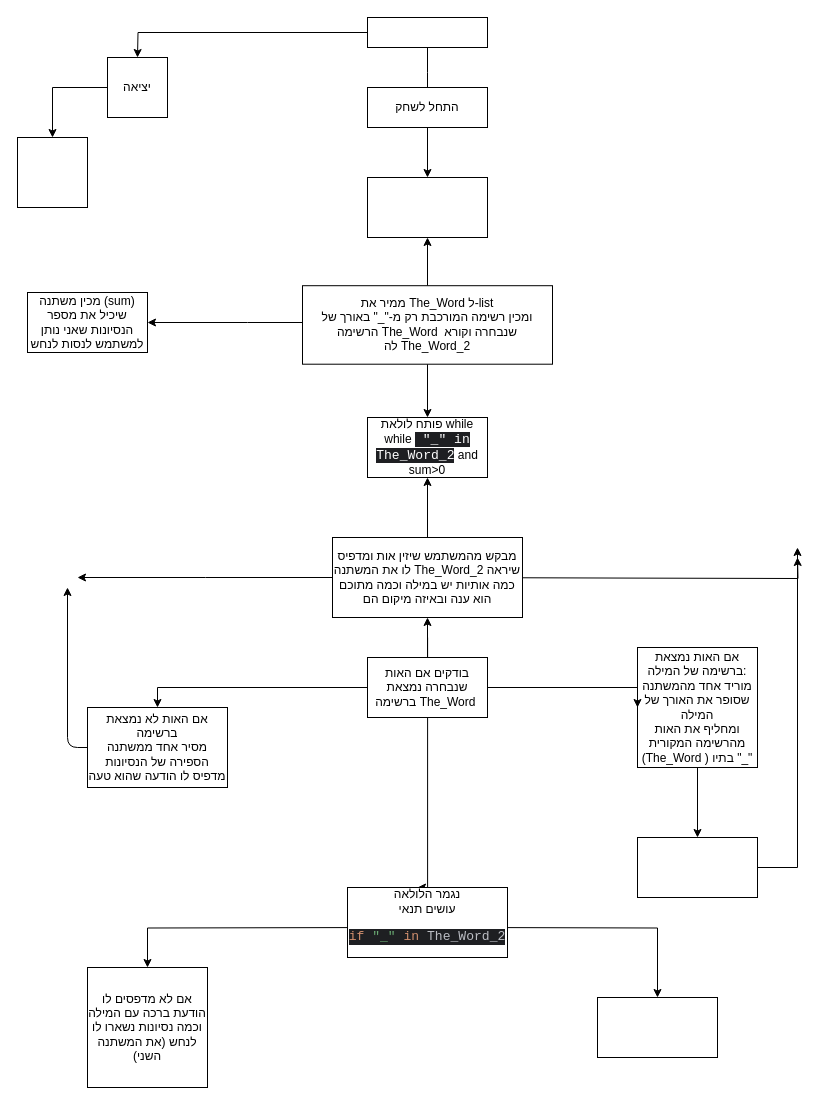
Image size: 824x1105. Some labels were removed from this diagram. Here are the shapes that lost their labels. From the top down, the centre of each, then its label:
point 427,32: תפריט
point 52,172: print("bai bai")
point 427,207: המערכת בוחרת מילה רנדומלית ושמרת אותה במשתנה The_Word
point 697,867: מעדכן את המשתנה של ה-_ ושם באינדקס הנכון את האות שהוא בחר, ומדפיס לו אותו
point 657,1027: אם כן: מדפיסים לו שהוא נכשל
